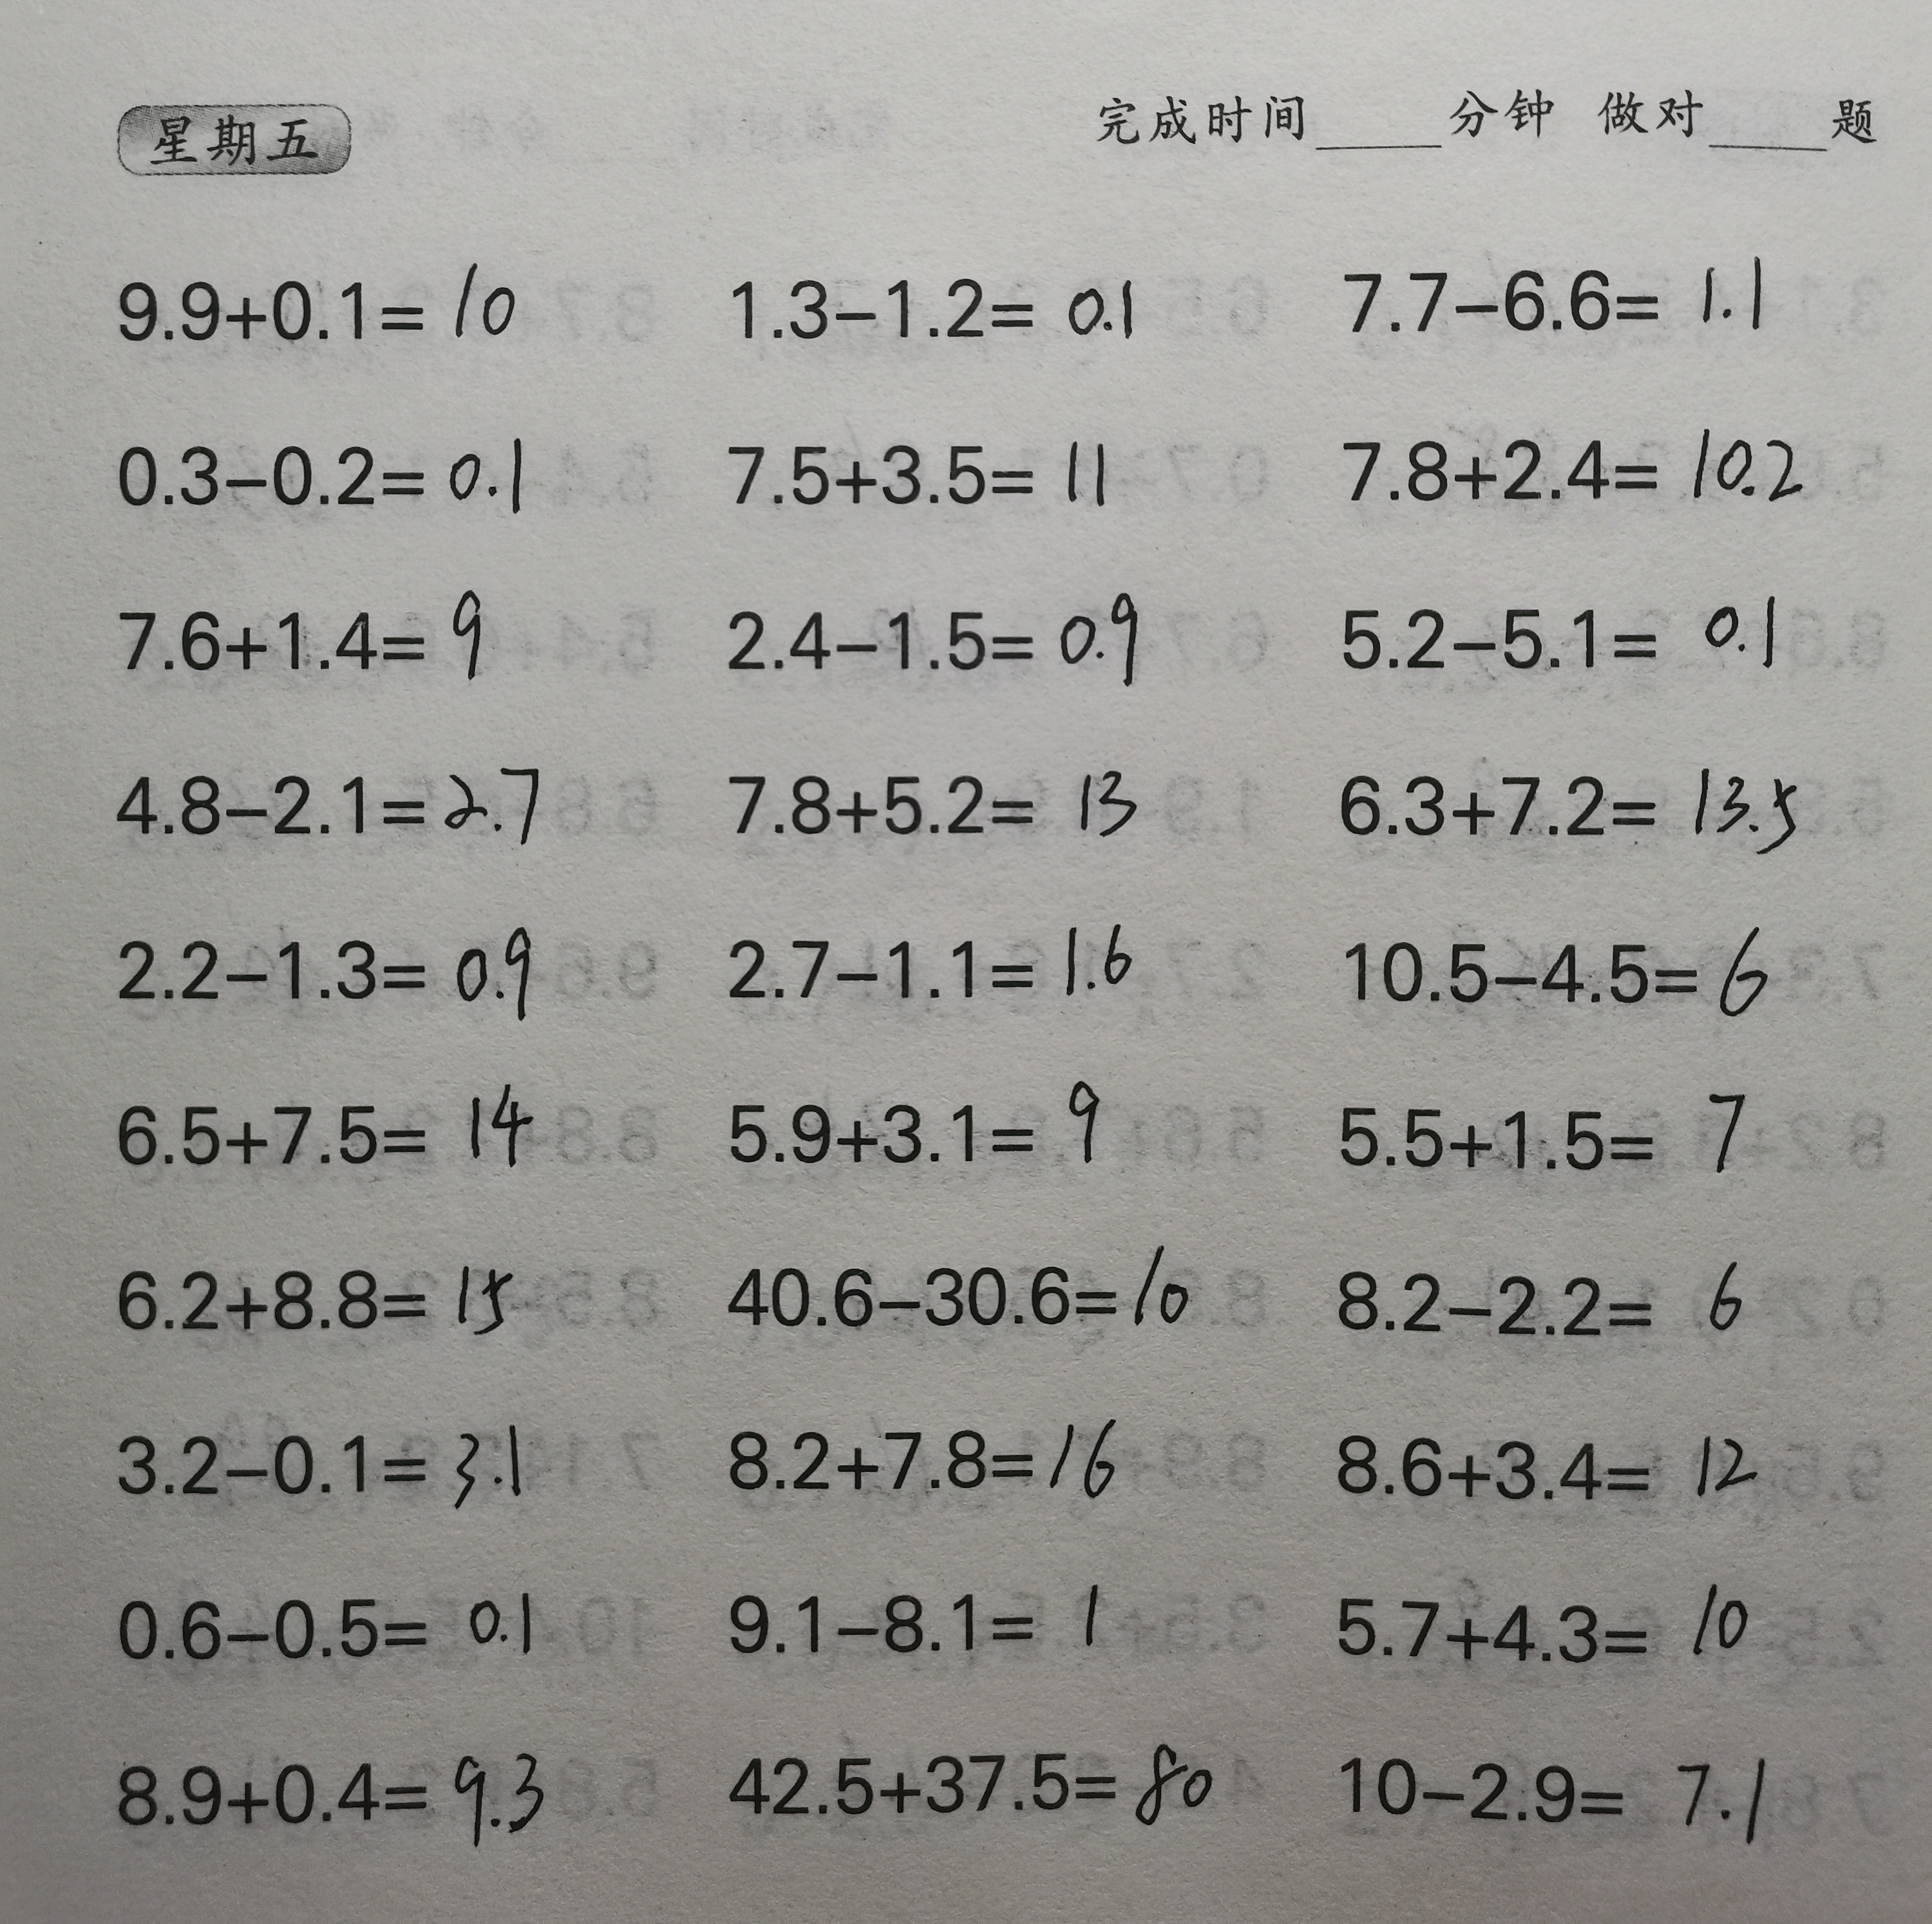equation: (1315, 740, 1809, 869), (1306, 1385, 1761, 1515), (1317, 1068, 1779, 1195), (1326, 1739, 1814, 1859), (97, 1718, 554, 1845), (716, 1233, 1204, 1350), (1341, 907, 1777, 1036), (92, 744, 554, 862), (1329, 412, 1810, 525), (719, 1732, 1234, 1836), (716, 735, 1141, 860), (714, 576, 1155, 696), (1320, 1568, 1775, 1683), (99, 405, 541, 522), (97, 1570, 559, 1681), (719, 1057, 1114, 1186), (707, 1556, 1133, 1674), (1329, 569, 1793, 675), (109, 911, 550, 1022), (705, 412, 1126, 527), (90, 571, 502, 685), (88, 1242, 539, 1346), (703, 247, 1162, 349), (93, 1069, 534, 1175), (106, 1413, 545, 1519), (1336, 240, 1786, 342), (1308, 1240, 1752, 1343), (723, 1401, 1126, 1510), (724, 909, 1156, 1010), (102, 247, 532, 347)
